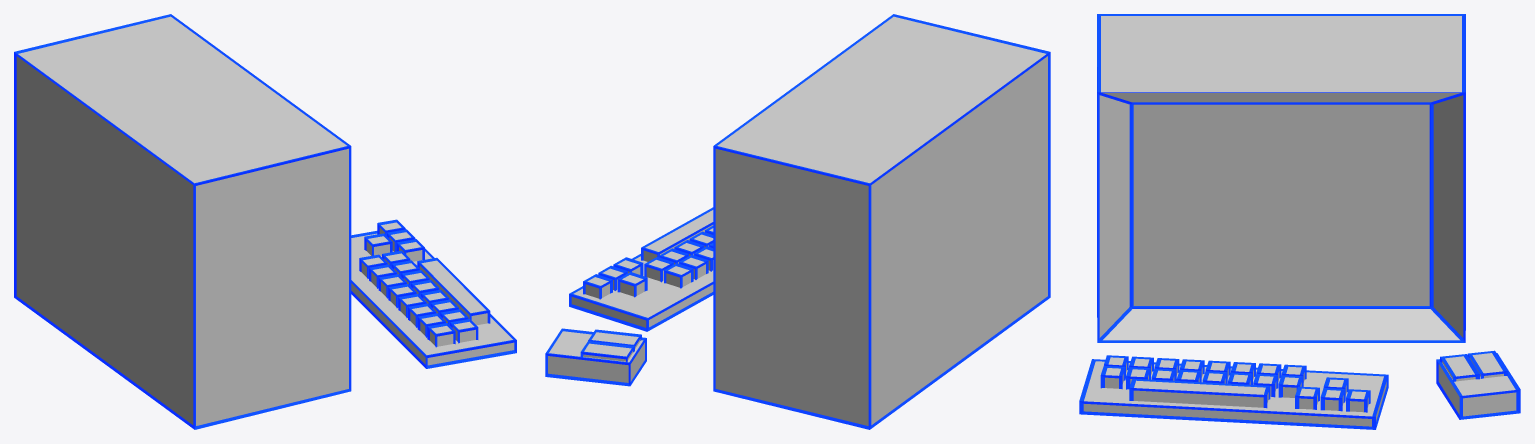
File: pcmodel.glb
3 views of the same model, side by side, from view 1: azimuth 30°, elevation 25°; view 2: azimuth 150°, elevation 25°; view 3: azimuth 270°, elevation 25° (orthographic). The views are drawn at different scales.
Visible parts, largest first — view 1: Cube; view 2: Cube; view 3: Cube.
Boxes of the visible parts, bbox=[...] form: Cube: bbox=[14, 14, 516, 429]; Cube: bbox=[545, 14, 1050, 429]; Cube: bbox=[1079, 14, 1520, 429].
Bounding box in the file's own units: 8.88 × 6.05 × 9.64.
